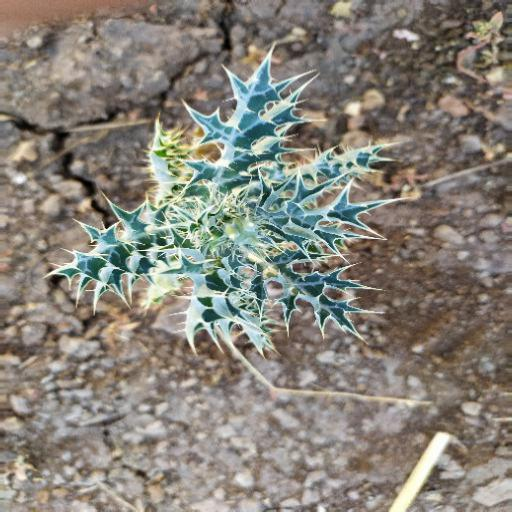weed: (54, 48, 386, 357)
